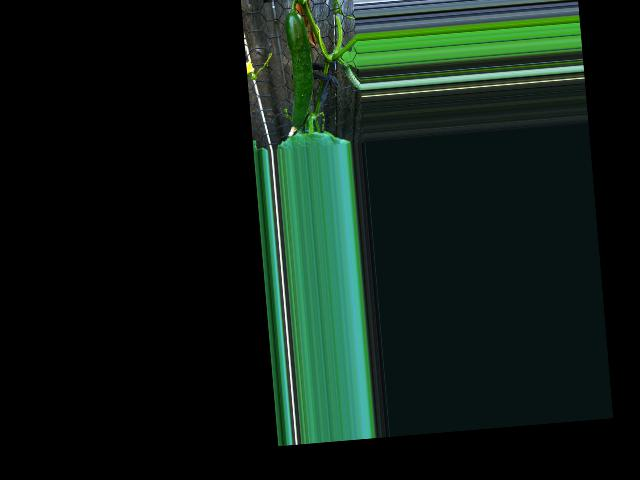cucumber: (283, 10, 317, 126)
